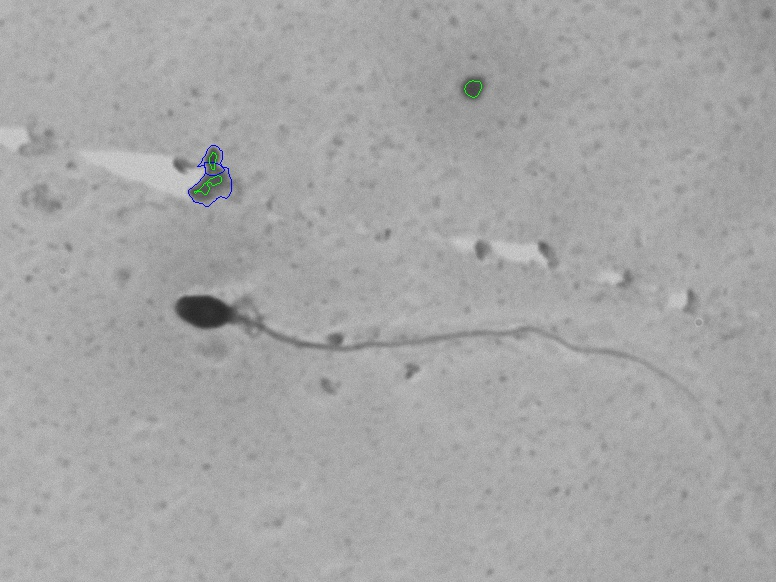Normal: (151, 266, 722, 466)
